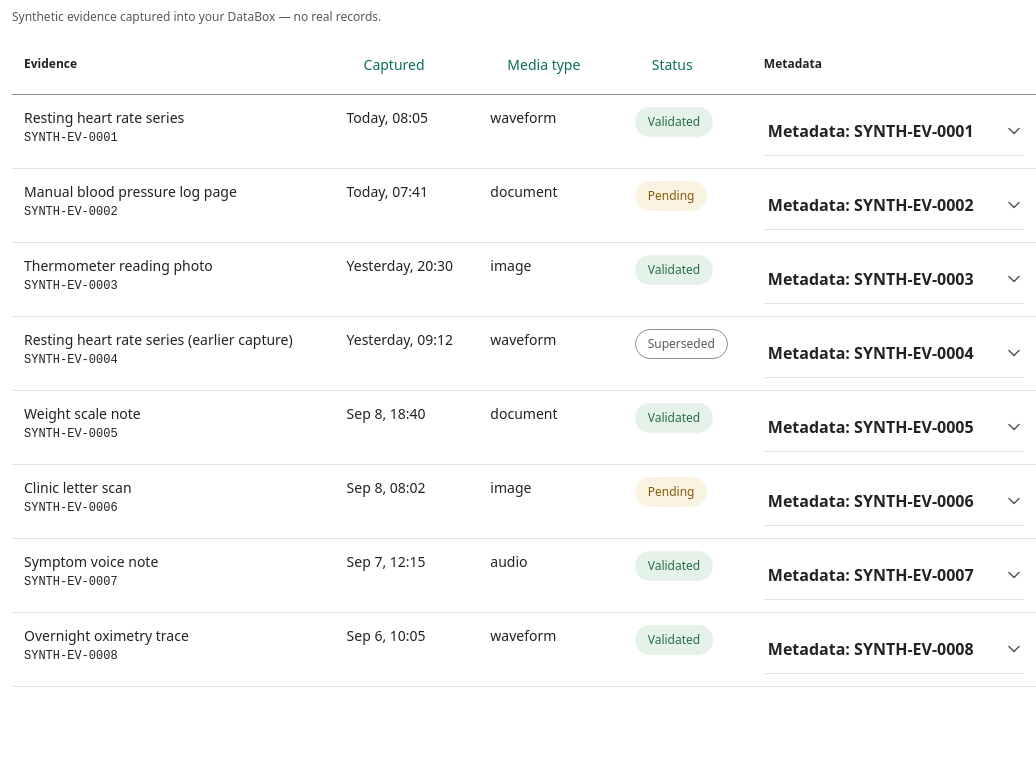
Test: EvidenceTable › reveals row metadata through the disclosure panel
Click the button "Metadata: SYNTH-EV-0001": click(894, 131) [764,107,1024,155]
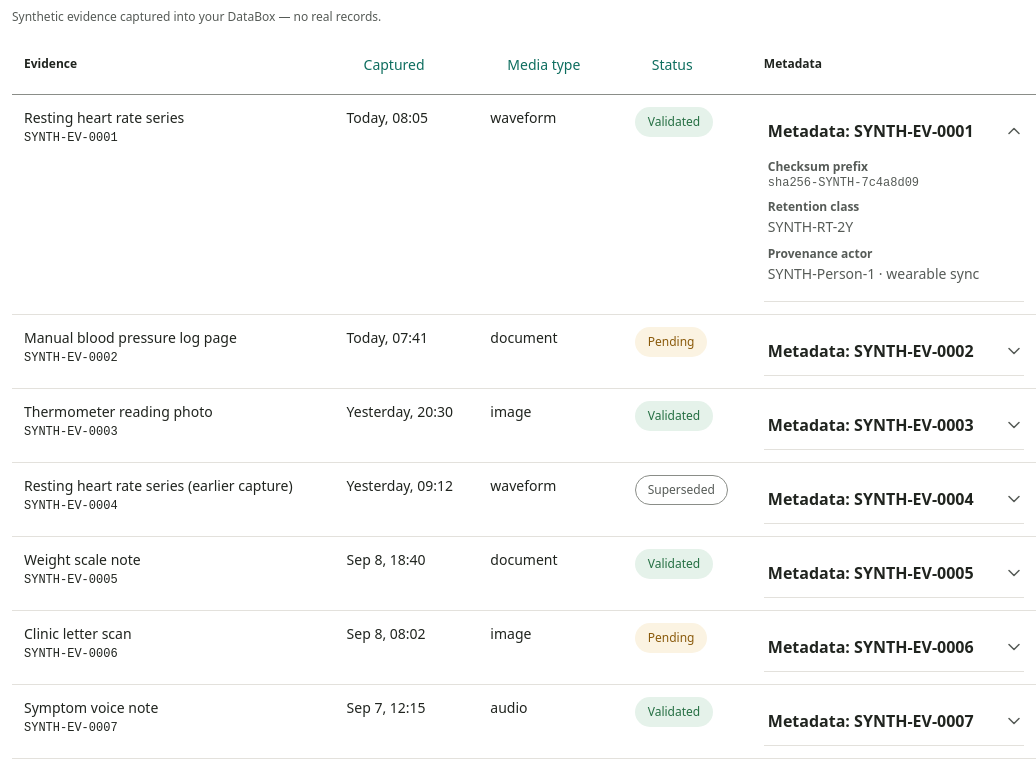
Now the button "Metadata: SYNTH-EV-0001" is expanded, box [764,107,1024,155]
Now the text "Checksum prefix" is shown, box [768,158,868,175]
Now the text "sha256-SYNTH-7c4a8d09" is shown, box [768,176,919,190]
